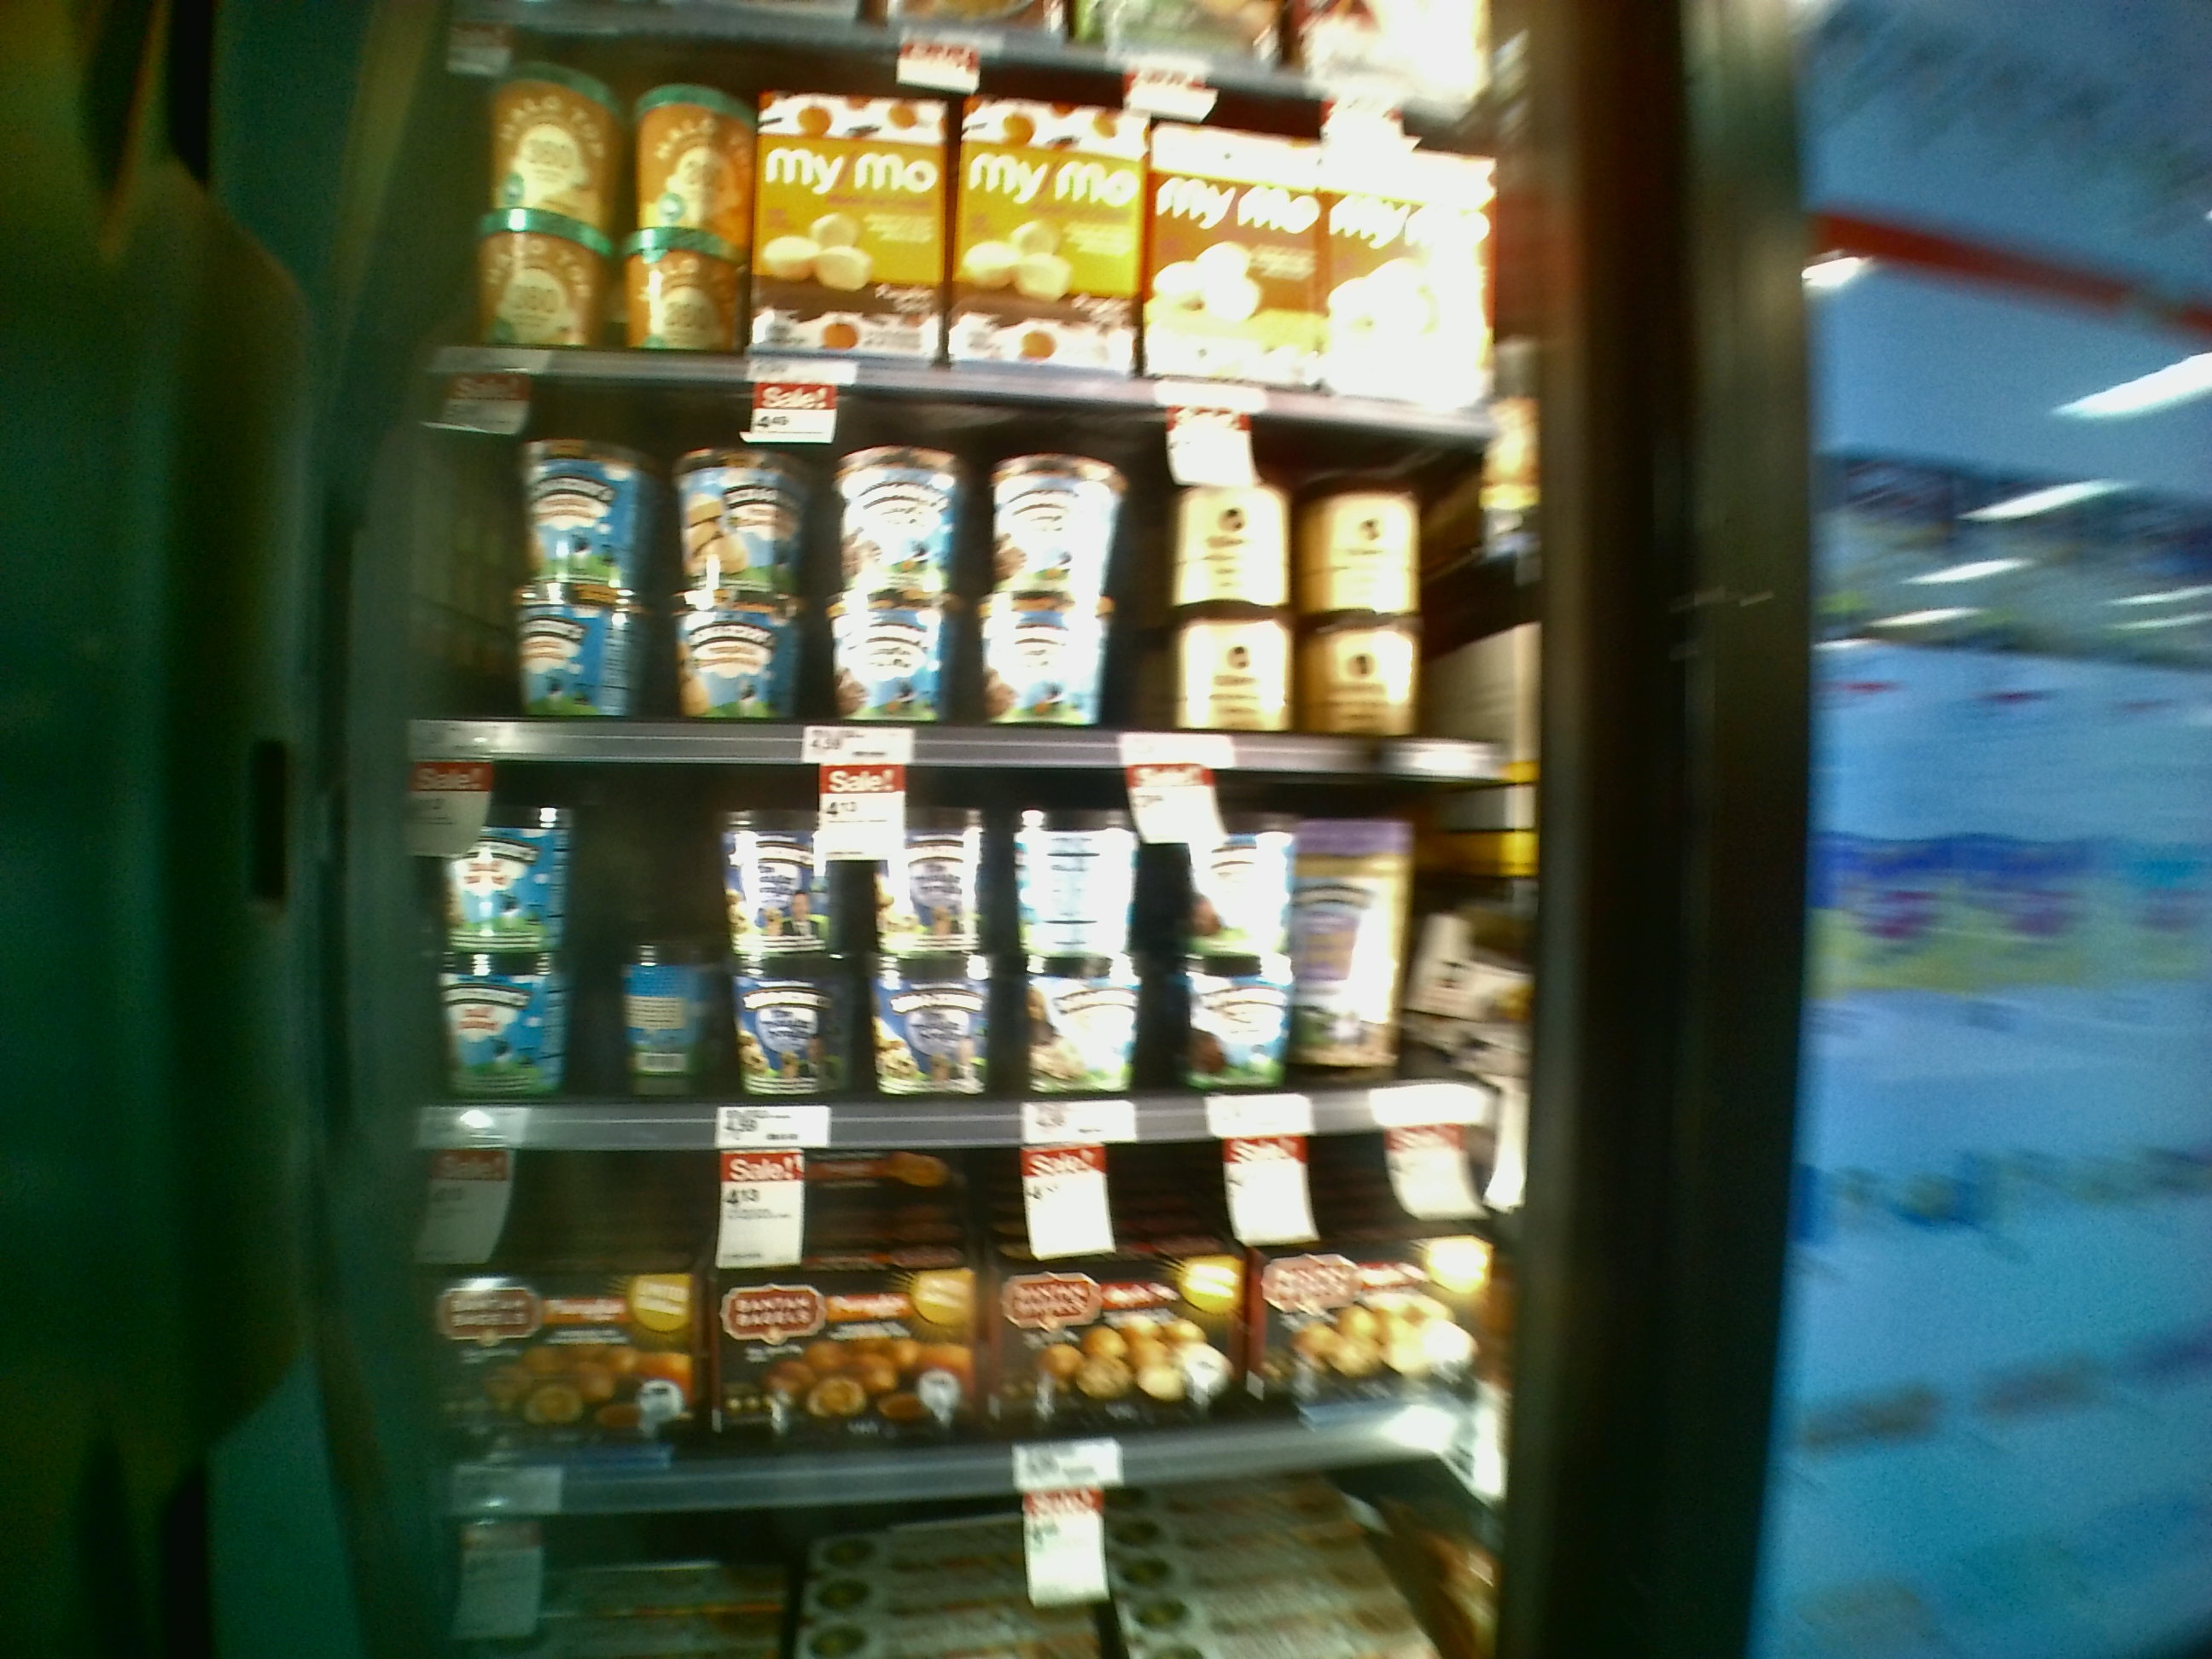shelf: (366, 357, 1559, 779), (345, 763, 1559, 1133), (347, 1133, 1561, 1455)
